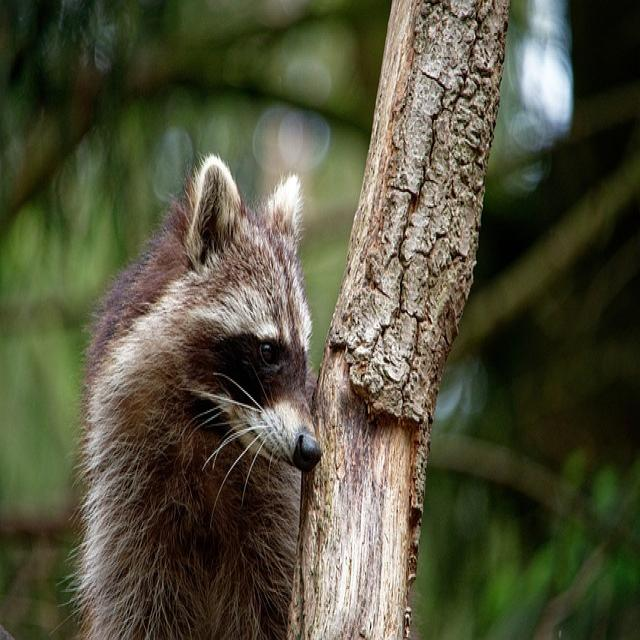Carnivorous: (74, 156, 324, 640)
